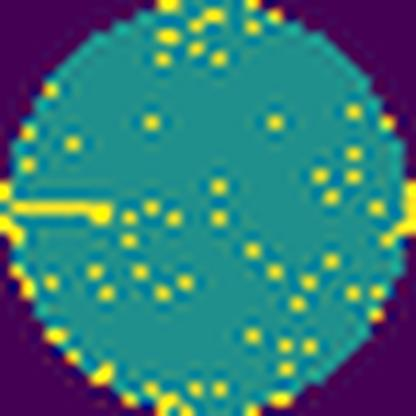Scratch: (11, 194, 116, 232)
